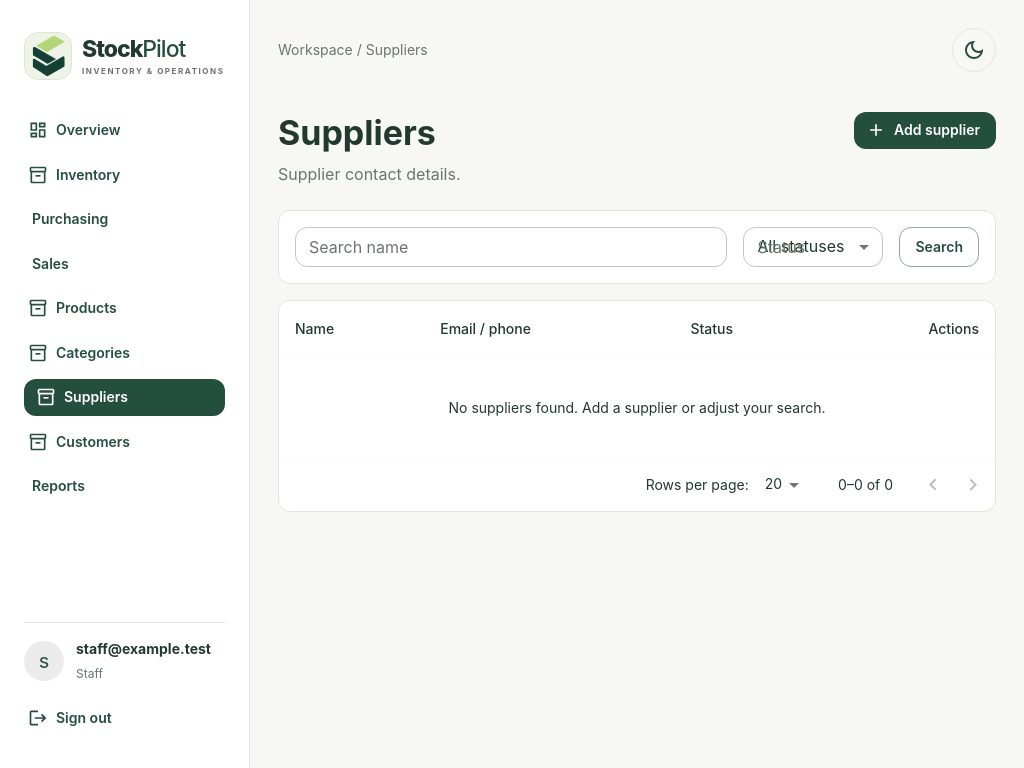
Test: still removes private views and cached data when the background check returns 401
The image size is (1024, 768).
Click the button "Add supplier": point(925, 130) [854,112,996,148]
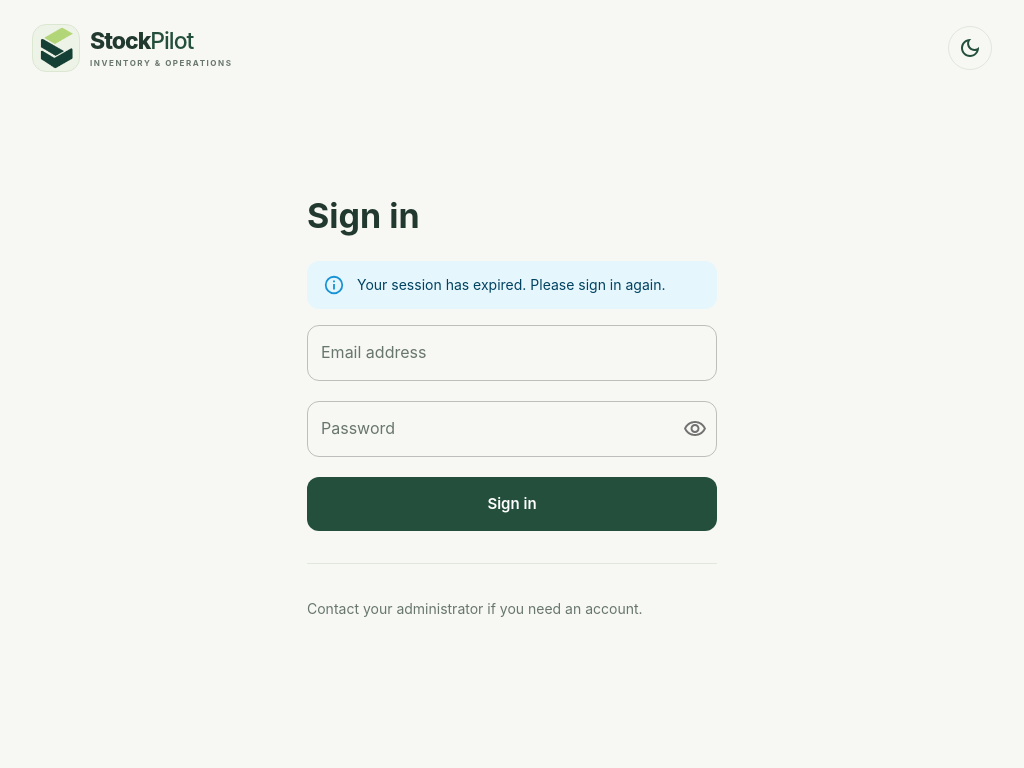
Expected: the button "Sign in" is shown, [307,477,717,531]
